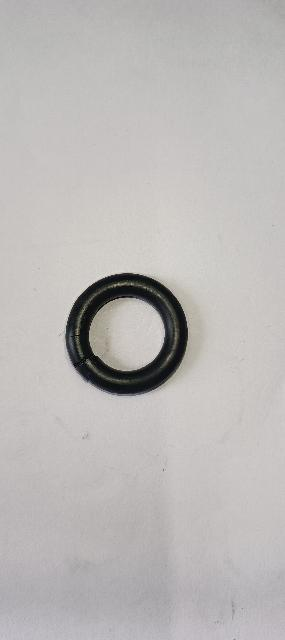crack: (70, 351, 100, 372)
scratch: (62, 332, 92, 340), (86, 373, 92, 383)
